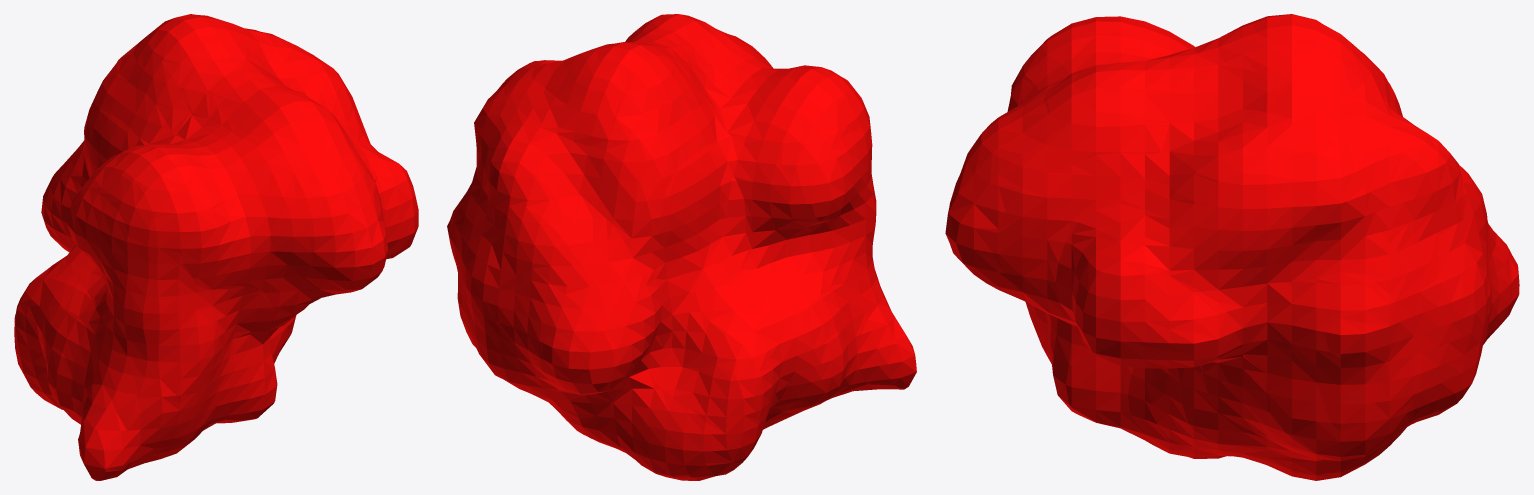
Rendered from yggS_coarse.dae.
3 renders of one model, left to right at view 1: azimuth 30°, elevation 25°; view 2: azimuth 150°, elevation 25°; view 3: azimuth 270°, elevation 25°, orthographic. The views are drawn at different scales.
Visible parts, largest first — view 1: yggS; view 2: yggS; view 3: yggS.
Boxes of the visible parts, x1,y1,x2,y2 form: yggS: (14,14,418,480); yggS: (447,14,916,480); yggS: (945,14,1519,480).
Size of the model in its own units: 46.48 by 47.71 by 52.72.
